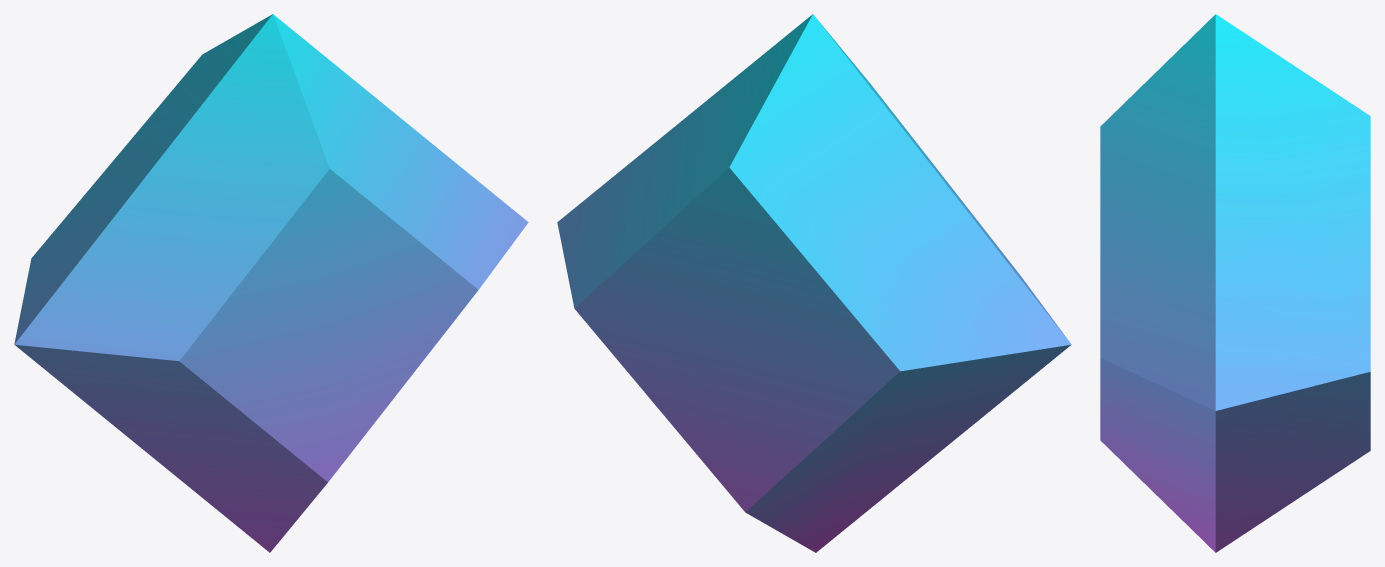
The model's file is gem_small.glb.
3 renders of one model, left to right at view 1: azimuth 30°, elevation 25°; view 2: azimuth 150°, elevation 25°; view 3: azimuth 270°, elevation 25°, orthographic.
Parts seen in each view (by area): view 1: Gem_Small; view 2: Gem_Small; view 3: Gem_Small.
Boxes of the visible parts, bbox=[...] form: Gem_Small: bbox=[14, 14, 528, 552]; Gem_Small: bbox=[557, 14, 1071, 552]; Gem_Small: bbox=[1100, 14, 1370, 552].
Bounding box in the file's own units: 0.3007 × 0.3007 × 0.1364.
Materials: 1 (1 with a texture image).
